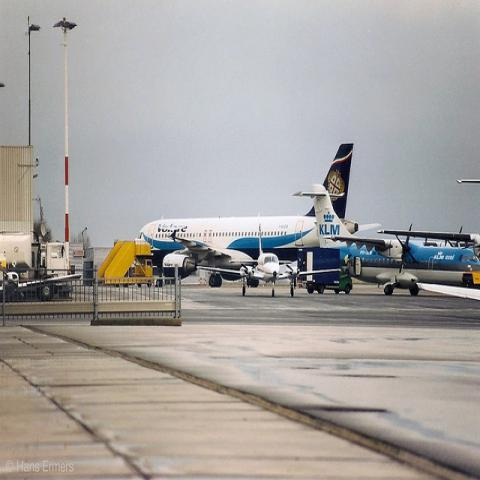truck: (0, 148, 80, 298), (96, 240, 154, 288), (299, 248, 354, 294)
